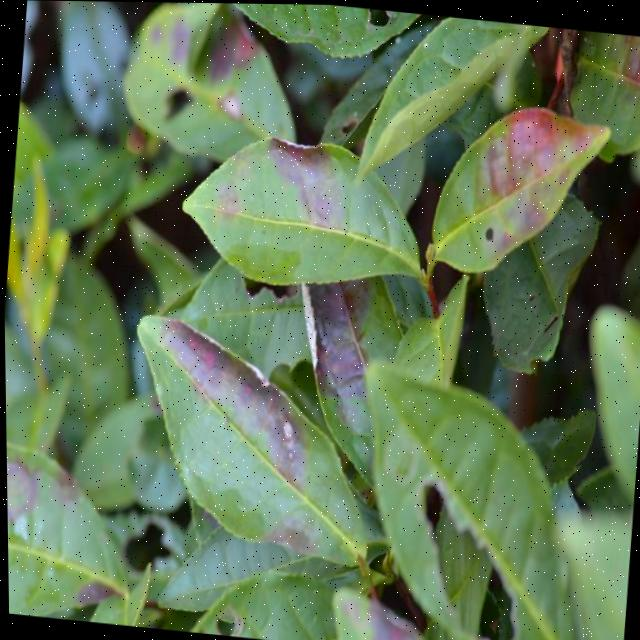Tea exobasidium blight: (155, 318, 306, 490), (469, 95, 564, 216), (260, 124, 347, 221)
